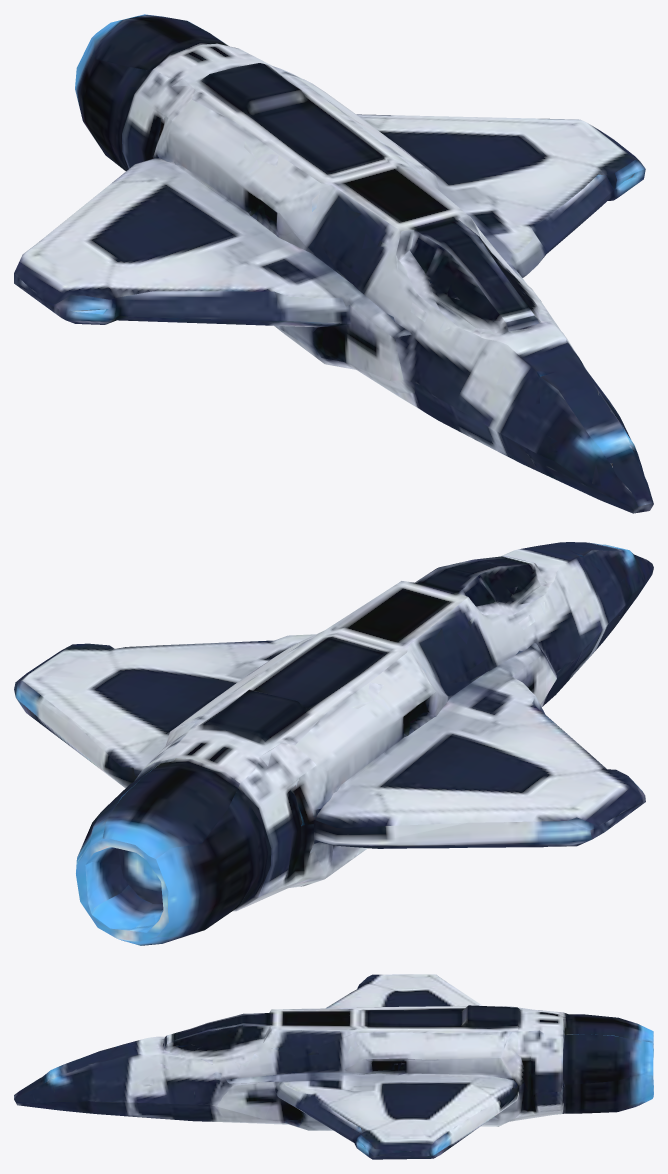
File: enemy-basic-s3.glb
The picture shows the model from 3 angles, top to bottom: view 1: azimuth 30°, elevation 25°; view 2: azimuth 150°, elevation 25°; view 3: azimuth 270°, elevation 25°; orthographic projection. The views are drawn at different scales.
Visible parts, largest first — view 1: 2eeb1933-a6ca-4bd0-a515-30dd85c03f9c_texturing.obj; view 2: 2eeb1933-a6ca-4bd0-a515-30dd85c03f9c_texturing.obj; view 3: 2eeb1933-a6ca-4bd0-a515-30dd85c03f9c_texturing.obj.
Boxes of the visible parts, left/top/right/bottom form: 2eeb1933-a6ca-4bd0-a515-30dd85c03f9c_texturing.obj: left=14, top=14, right=653, bottom=513; 2eeb1933-a6ca-4bd0-a515-30dd85c03f9c_texturing.obj: left=14, top=542, right=653, bottom=945; 2eeb1933-a6ca-4bd0-a515-30dd85c03f9c_texturing.obj: left=14, top=974, right=653, bottom=1159.
Bounding box in the file's own units: 1.3 × 0.3399 × 1.99.
1 material, 1 textured.
